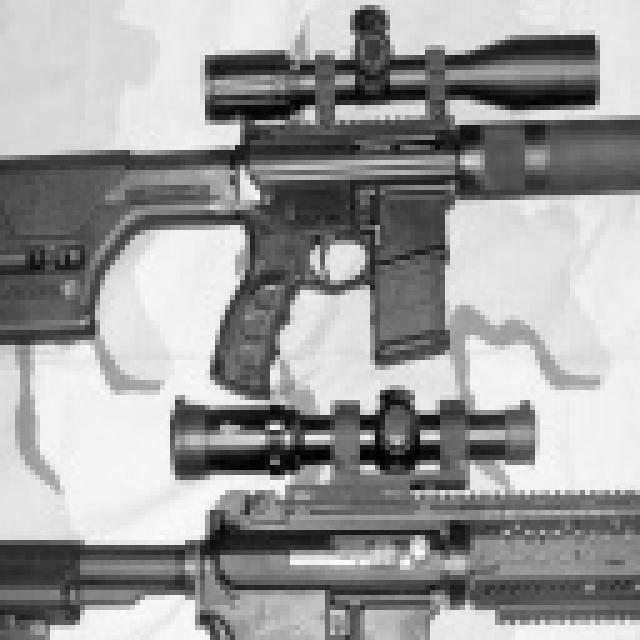Rifle: (0, 0, 640, 406), (0, 367, 640, 640)
